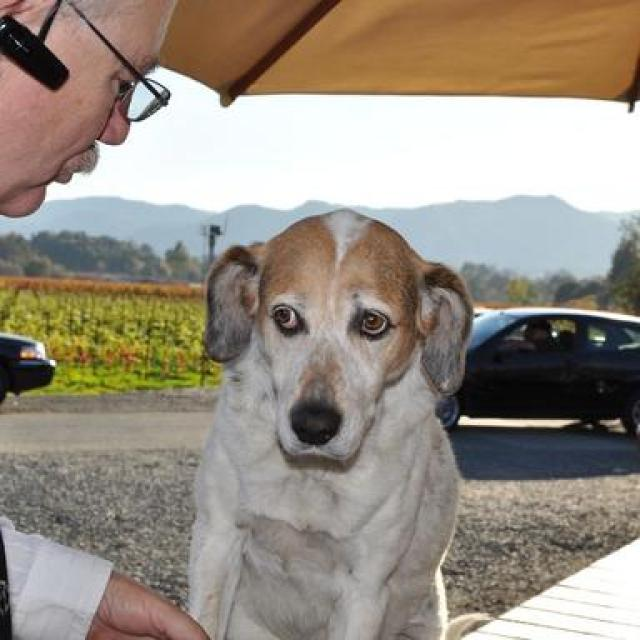sad: (170, 190, 493, 640)
